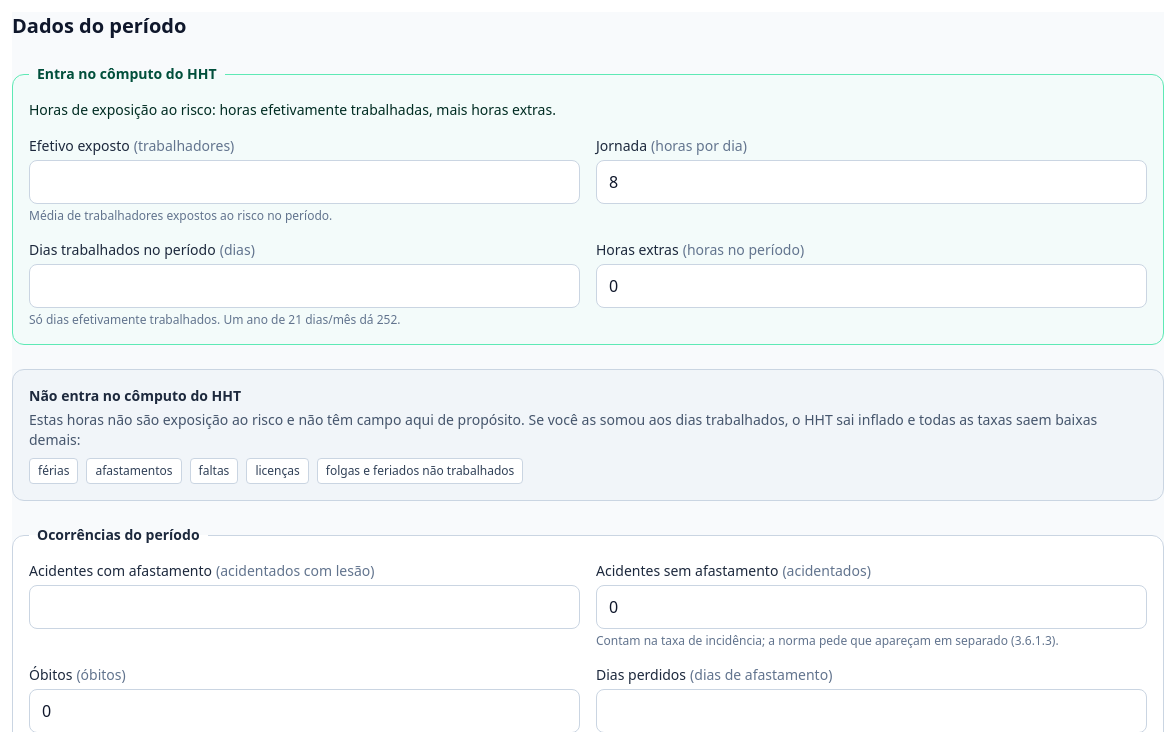
Test: validação de campo › recusa meio acidente com mensagem em pt-BR
In the field labelled "Acidentes com afastamento(acidentados com lesão)": (304, 607) left=29, top=585, right=580, bottom=629, type "2,5"
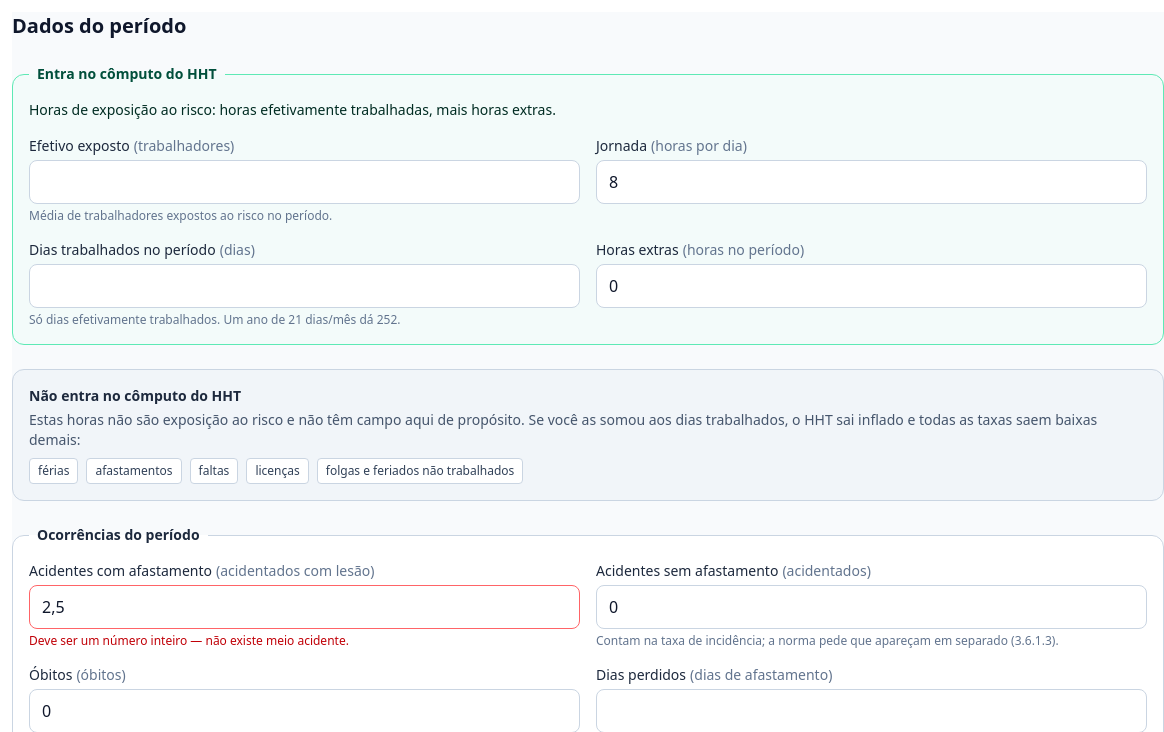
Now the text "Deve ser um número inteiro — não existe meio acidente." is shown, box left=29, top=632, right=349, bottom=649
